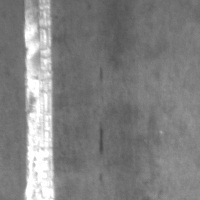inclusion: (94, 120, 108, 159)
scratches: (21, 1, 57, 200)
